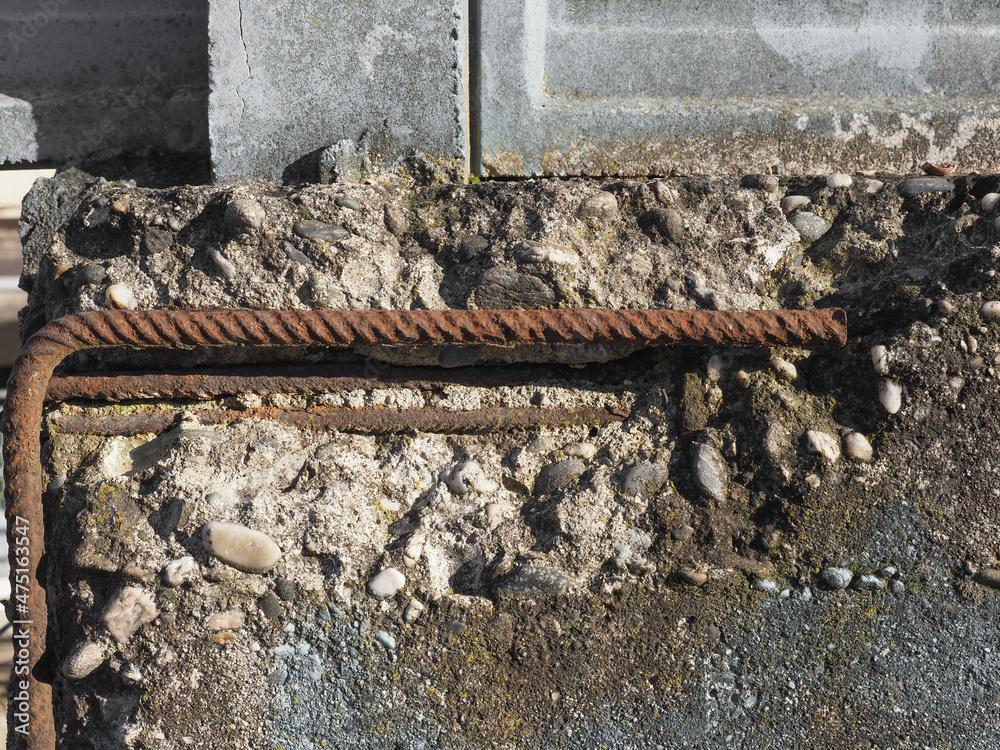Exposed reinforcement: (1, 306, 862, 750), (43, 403, 634, 430), (43, 373, 462, 405)
Spalling: (1, 171, 1000, 750)
